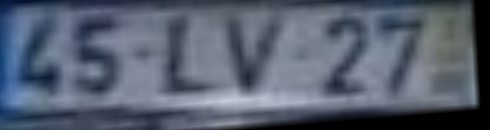2: (323, 11, 375, 104)
4: (12, 13, 68, 106)
5: (71, 13, 128, 102)
7: (378, 13, 439, 106)
L: (164, 15, 215, 98)
V: (224, 19, 295, 106)
